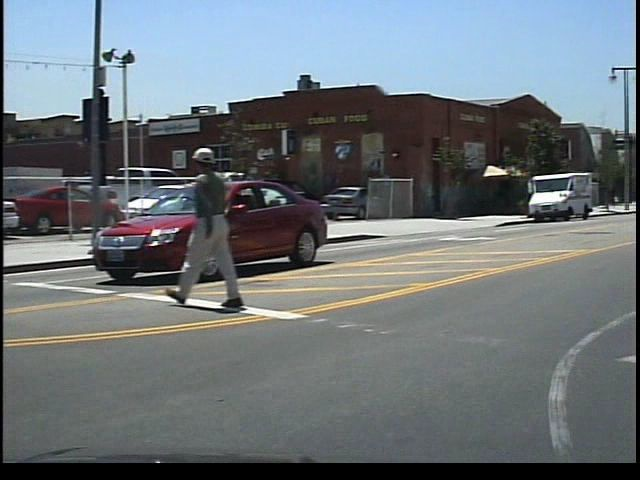person: (182, 143, 264, 313)
